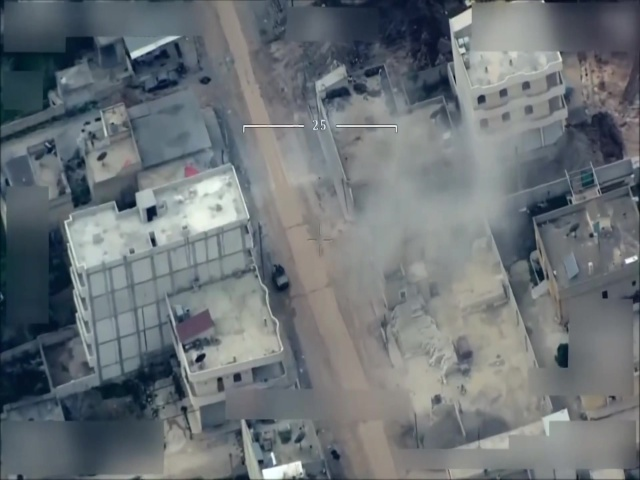vehicle: (270, 262, 291, 291)
